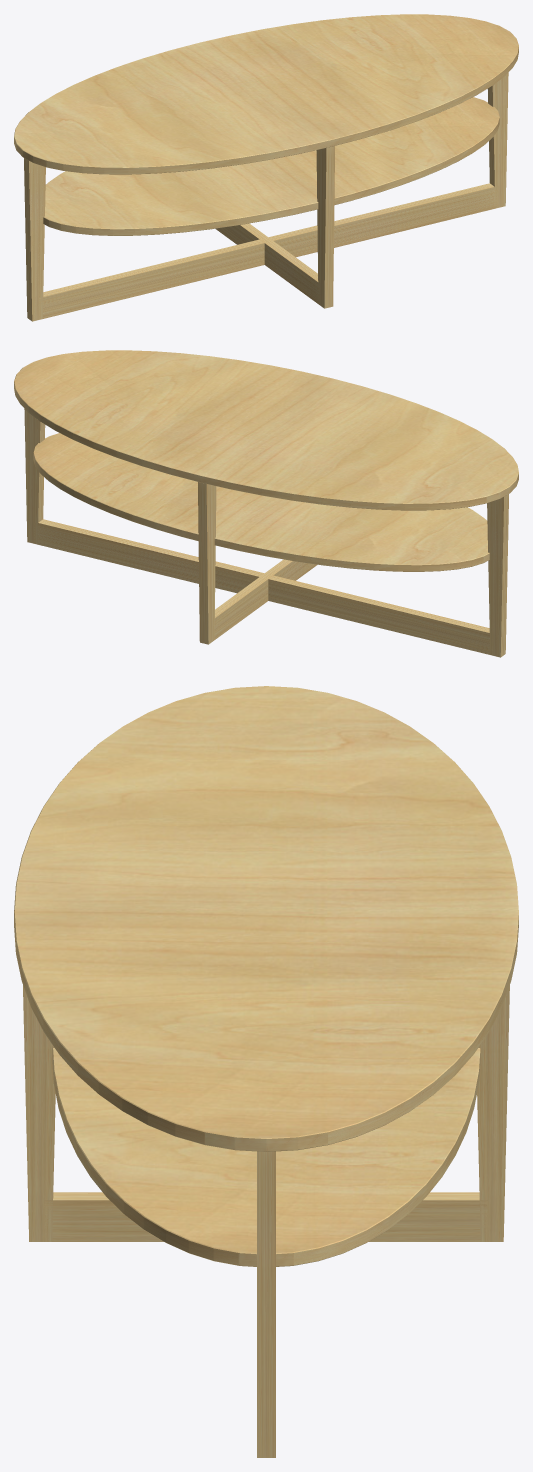
Rendered from IKEA-VEJMON_coffee_table_wooden-3D.DAE.
3 renders of one model, top to bottom at view 1: azimuth 30°, elevation 25°; view 2: azimuth 150°, elevation 25°; view 3: azimuth 270°, elevation 25°, orthographic. The views are drawn at different scales.
Parts seen in each view (by area): view 1: Ellipse001, Ellipse002, Box007, Box003, Box001, Box006, Box005, Box004; view 2: Ellipse001, Ellipse002, Box007, Box003, Box002, Box006, Box005, Box004; view 3: Ellipse001, Ellipse002, Box006, Box001, Box002, Box005.
Boxes of the visible parts, left/top/right/bottom form: Ellipse001: left=14, top=14, right=518, bottom=174; Ellipse002: left=43, top=97, right=499, bottom=235; Box007: left=39, top=183, right=498, bottom=318; Box003: left=24, top=158, right=45, bottom=321; Box001: left=316, top=146, right=334, bottom=308; Box006: left=215, top=223, right=320, bottom=304; Box005: left=487, top=72, right=508, bottom=208; Box004: left=29, top=161, right=45, bottom=319; Ellipse001: left=14, top=350, right=518, bottom=510; Ellipse002: left=33, top=433, right=489, bottom=571; Box007: left=34, top=519, right=490, bottom=654; Box003: left=487, top=494, right=508, bottom=657; Box002: left=198, top=482, right=216, bottom=644; Box006: left=214, top=559, right=317, bottom=639; Box005: left=24, top=408, right=45, bottom=544; Box004: left=487, top=497, right=503, bottom=656; Ellipse001: left=14, top=686, right=518, bottom=1151; Ellipse002: left=52, top=1048, right=480, bottom=1266; Box006: left=44, top=1192, right=488, bottom=1241; Box001: left=23, top=985, right=55, bottom=1241; Box002: left=477, top=985, right=509, bottom=1241; Box005: left=257, top=1151, right=275, bottom=1457.
Bounding box in the file's own units: 1400 × 470 × 660.
